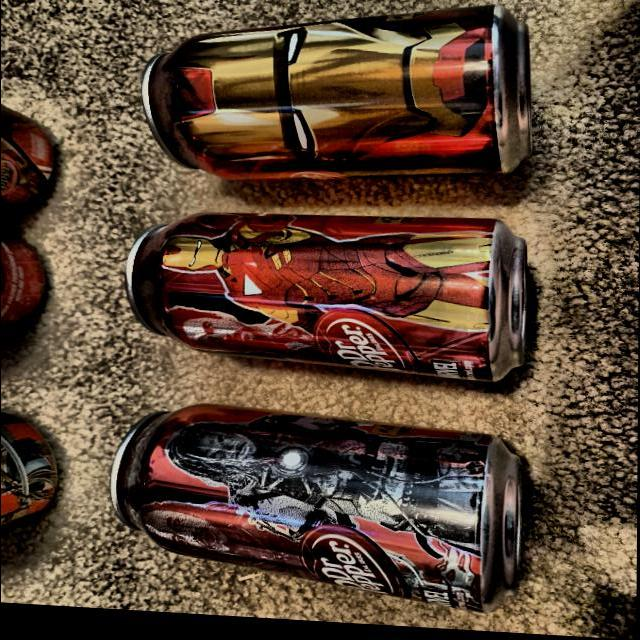litter: (101, 403, 546, 617), (138, 0, 552, 203), (121, 197, 538, 391), (0, 409, 70, 544), (0, 100, 66, 228), (0, 231, 51, 355)
